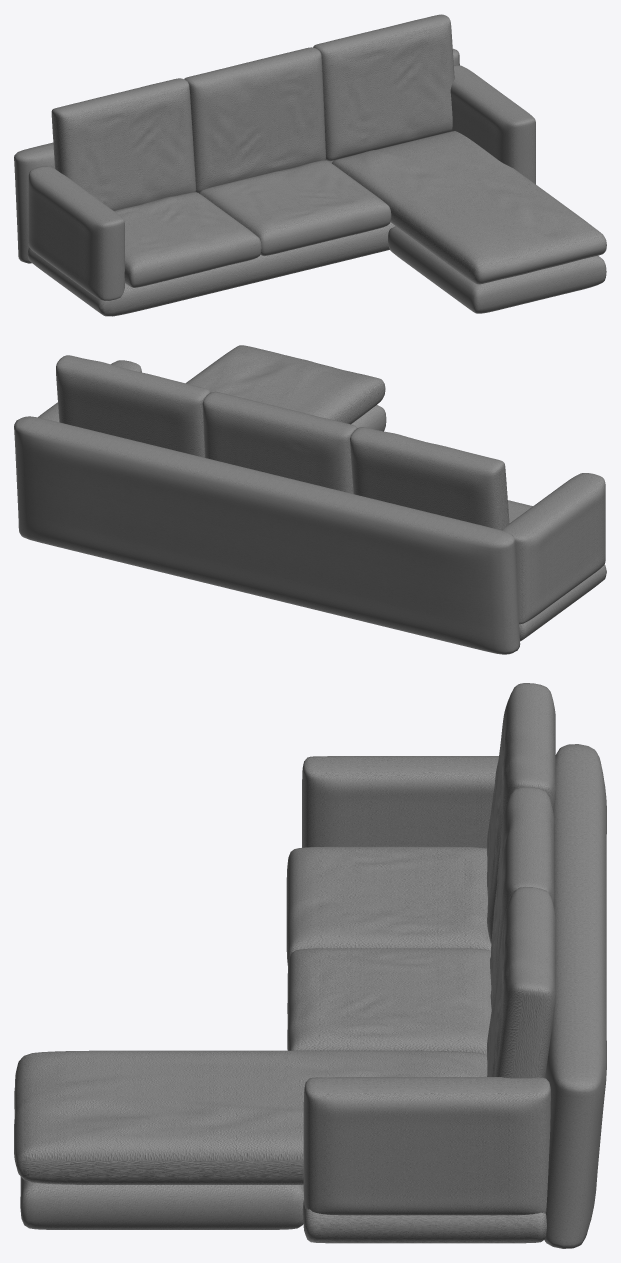
Rendered from couch-00001.glb.
3 views of the same model, one above another, from view 1: azimuth 30°, elevation 25°; view 2: azimuth 150°, elevation 25°; view 3: azimuth 270°, elevation 25° (orthographic). The views are drawn at different scales.
Visible parts, largest first — view 1: Plane.013; view 2: Plane.013; view 3: Plane.013.
Boxes of the visible parts, box(x1,y1,x2,y2) form: Plane.013: box(14, 14, 606, 316); Plane.013: box(14, 345, 606, 654); Plane.013: box(14, 683, 606, 1248).
Size of the model in its own units: 1.98 by 0.6752 by 1.43.
2 materials, 2 textured.
